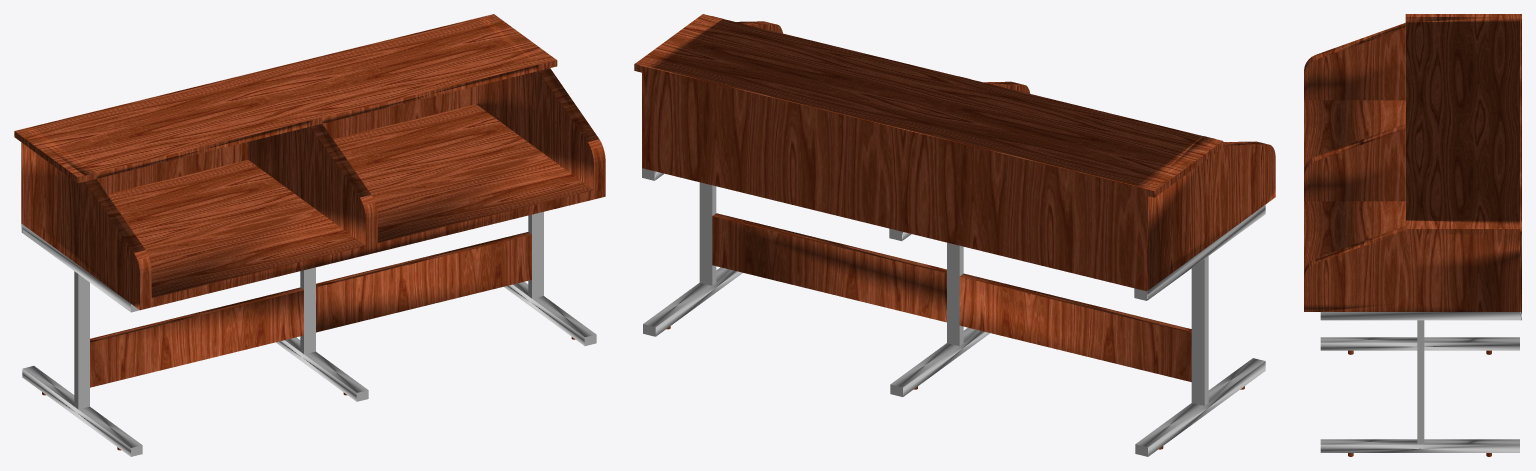
Rendered from MesaProTerminadisima.fbx.
The picture shows the model from 3 angles, left to right: view 1: azimuth 30°, elevation 25°; view 2: azimuth 150°, elevation 25°; view 3: azimuth 270°, elevation 25°; orthographic projection. The views are drawn at different scales.
Visible parts, largest first — view 1: Cube.002; view 2: Cube.002; view 3: Cube.002.
Part boxes in pixels (left/top/right/bottom): Cube.002: left=14, top=14, right=605, bottom=456; Cube.002: left=634, top=14, right=1275, bottom=456; Cube.002: left=1304, top=14, right=1521, bottom=456.
Size of the model in its own units: 282 by 142 by 121.
